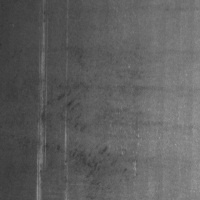scratches: (35, 6, 50, 199)
